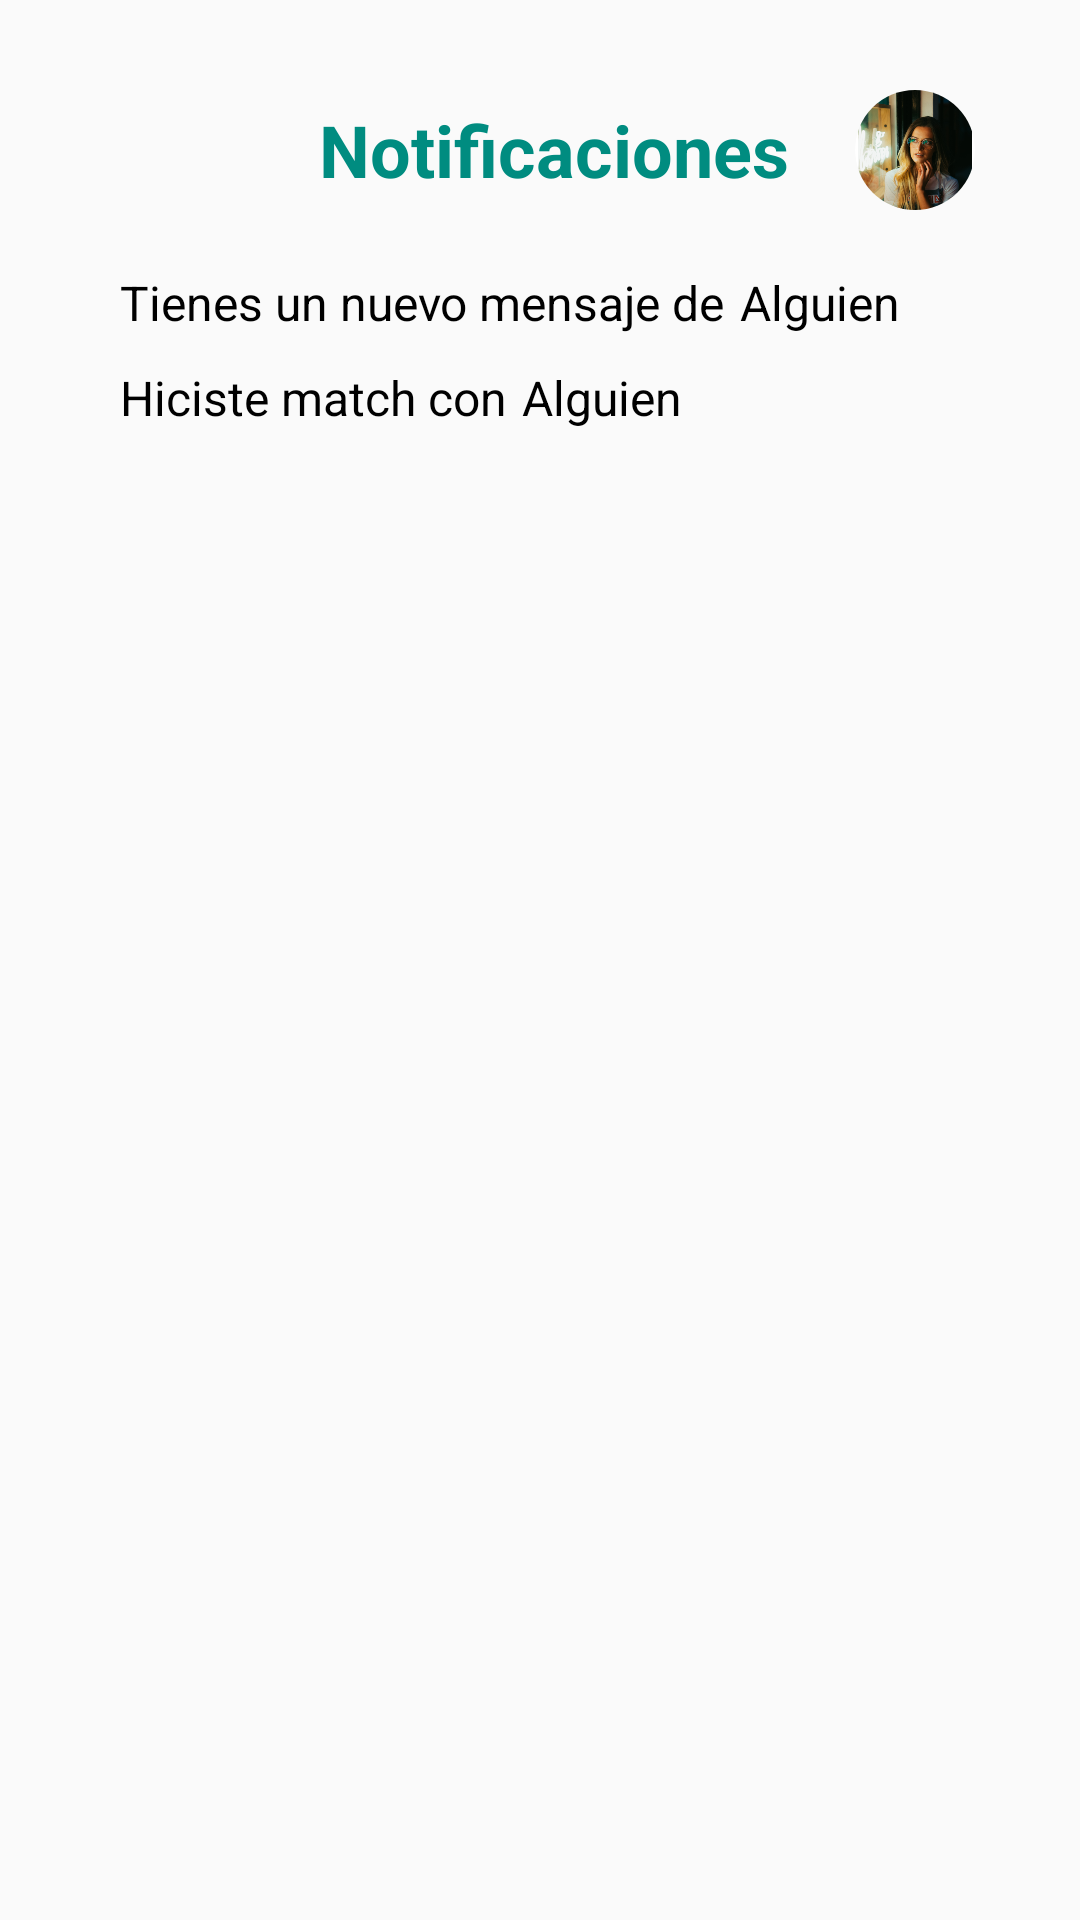

Icons on this 1080×1920 Android screen, each with the point to tap as (x,y):
photo main: (915,150)
